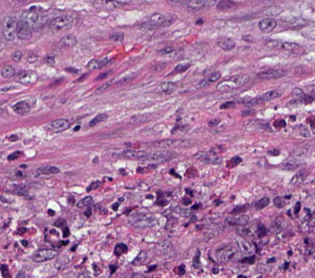nucleus: (242, 90, 281, 106), (217, 75, 250, 91), (20, 7, 41, 28), (49, 14, 74, 31), (128, 213, 155, 227), (149, 12, 173, 27), (265, 40, 299, 50), (146, 150, 173, 162), (47, 118, 69, 132), (151, 139, 185, 148), (257, 69, 285, 79), (113, 72, 136, 84), (120, 149, 147, 159), (184, 0, 210, 10), (258, 18, 276, 32), (88, 113, 107, 126), (226, 214, 248, 225), (87, 58, 108, 69), (282, 158, 301, 170), (217, 38, 235, 50), (237, 239, 252, 252), (60, 35, 76, 47), (159, 82, 176, 93), (217, 0, 235, 10), (205, 72, 220, 84), (37, 166, 59, 174), (130, 114, 149, 123), (173, 62, 190, 72), (292, 171, 306, 183), (255, 197, 269, 209), (77, 196, 92, 207), (292, 88, 305, 100), (293, 147, 307, 158), (227, 156, 241, 167), (158, 46, 174, 55), (256, 223, 266, 237), (95, 83, 108, 93), (109, 31, 123, 40), (231, 206, 245, 214), (274, 196, 284, 207), (87, 181, 99, 190), (96, 71, 109, 79), (275, 218, 284, 229), (220, 101, 234, 108), (208, 118, 220, 126), (237, 227, 249, 235), (300, 126, 309, 136), (113, 1, 129, 6), (55, 219, 65, 226), (268, 149, 279, 155), (275, 120, 284, 127), (45, 56, 53, 63), (295, 202, 300, 213), (63, 227, 68, 237), (112, 203, 118, 210), (85, 209, 90, 216), (183, 200, 190, 204), (75, 126, 79, 130)
